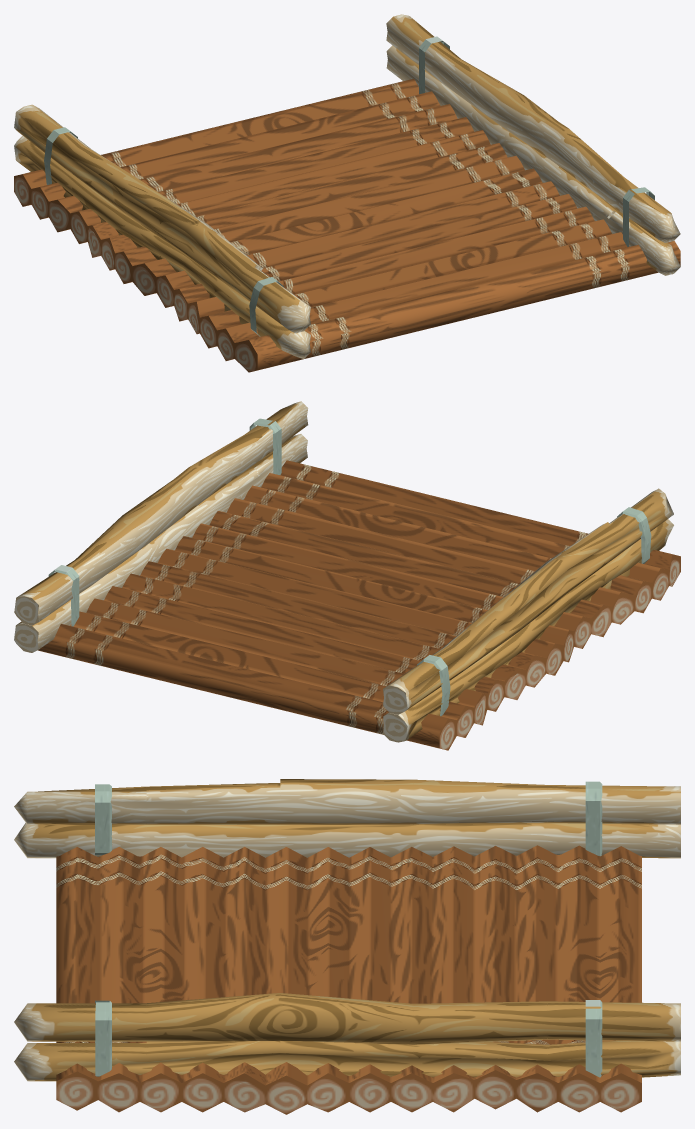
File: mesaMadeira.FBX
3 views of the same model, one above another, from view 1: azimuth 30°, elevation 25°; view 2: azimuth 150°, elevation 25°; view 3: azimuth 270°, elevation 25° (orthographic). The views are drawn at different scales.
Visible parts, largest first — view 1: baseMesaTroncs, mesaTabelaE01, mesaTabelaD01, mesaTabelaD01B, mesaTabelaE01B; view 2: baseMesaTroncs, mesaTabelaE01, mesaTabelaD01, mesaTabelaD01B, mesaTabelaE01B, mesaDetalhe04, mesaDetalhe02, mesaDetalhe03, mesaDetalhe01; view 3: baseMesaTroncs, mesaTabelaD01, mesaTabelaE01, mesaTabelaD01B, mesaTabelaE01B, mesaDetalhe01, mesaDetalhe03, mesaDetalhe02, mesaDetalhe04.
Part boxes in pixels (left/top/right/bottom): baseMesaTroncs: left=14, top=79, right=680, bottom=372; mesaTabelaE01: left=14, top=104, right=310, bottom=333; mesaTabelaD01: left=386, top=14, right=680, bottom=242; mesaTabelaD01B: left=386, top=45, right=680, bottom=275; mesaTabelaE01B: left=14, top=135, right=310, bottom=358; baseMesaTroncs: left=37, top=460, right=680, bottom=750; mesaTabelaE01: left=383, top=488, right=673, bottom=714; mesaTabelaD01: left=14, top=401, right=308, bottom=625; mesaTabelaD01B: left=14, top=434, right=307, bottom=652; mesaTabelaE01B: left=383, top=519, right=673, bottom=742; mesaDetalhe04: left=617, top=507, right=651, bottom=563; mesaDetalhe02: left=249, top=418, right=281, bottom=474; mesaDetalhe03: left=417, top=655, right=450, bottom=716; mesaDetalhe01: left=48, top=565, right=79, bottom=626; baseMesaTroncs: left=56, top=845, right=641, bottom=1114; mesaTabelaD01: left=14, top=993, right=680, bottom=1044; mesaTabelaE01: left=14, top=779, right=680, bottom=824; mesaTabelaD01B: left=14, top=1040, right=680, bottom=1081; mesaTabelaE01B: left=14, top=823, right=680, bottom=858; mesaDetalhe01: left=585, top=1000, right=602, bottom=1077; mesaDetalhe03: left=585, top=781, right=602, bottom=856; mesaDetalhe02: left=95, top=1000, right=111, bottom=1076; mesaDetalhe04: left=95, top=784, right=111, bottom=856.
Bounding box in the file's own units: 190 × 35.11 × 210.
